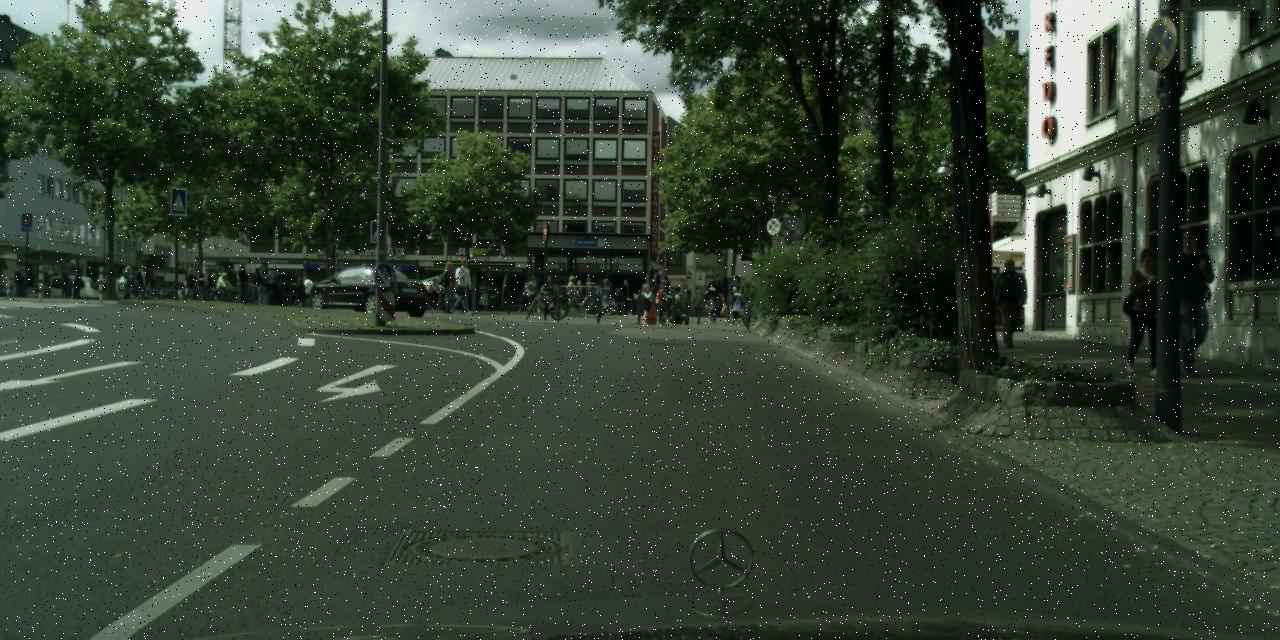ped: (1161, 228, 1220, 373), (1120, 247, 1170, 371), (991, 258, 1025, 344), (650, 265, 673, 322), (450, 258, 472, 312), (438, 261, 458, 312), (704, 273, 724, 323), (725, 274, 744, 322), (620, 279, 641, 315), (236, 260, 253, 304), (255, 265, 272, 306), (637, 283, 653, 323), (134, 263, 148, 299), (199, 266, 213, 301), (542, 276, 556, 310), (120, 265, 134, 298), (292, 276, 305, 310), (60, 267, 73, 300), (183, 268, 196, 300), (300, 276, 312, 308), (70, 269, 82, 300), (428, 278, 440, 308), (601, 279, 613, 307), (217, 271, 228, 300), (568, 274, 582, 284)
